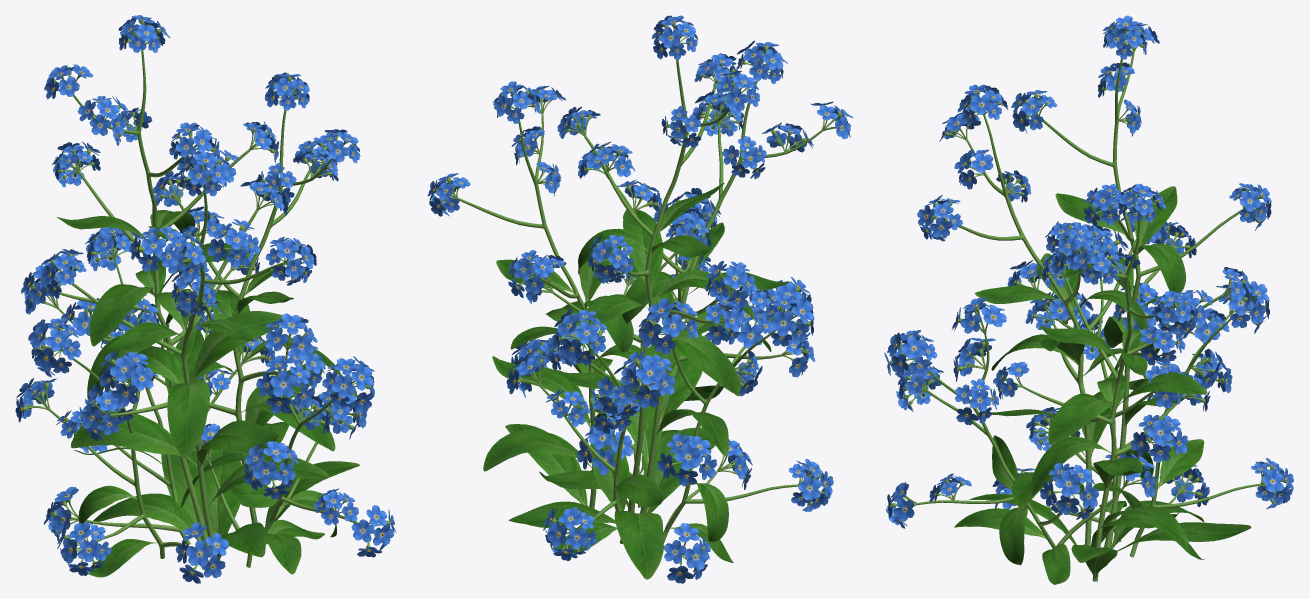
File: cgaxis_models_91_50_fbx.fbx
3 views of the same model, side by side, from view 1: azimuth 30°, elevation 25°; view 2: azimuth 150°, elevation 25°; view 3: azimuth 270°, elevation 25° (orthographic). The views are drawn at different scales.
Parts seen in each view (by area): view 1: cgaxis_models_91_50_01; view 2: cgaxis_models_91_50_01; view 3: cgaxis_models_91_50_01.
Part boxes in pixels (x1,y1,x2,y2): cgaxis_models_91_50_01: [15, 15, 396, 583]; cgaxis_models_91_50_01: [427, 15, 853, 583]; cgaxis_models_91_50_01: [884, 15, 1293, 584].
Size of the model in its own units: 7.92 by 11.84 by 8.54.
1 material, 1 textured.
